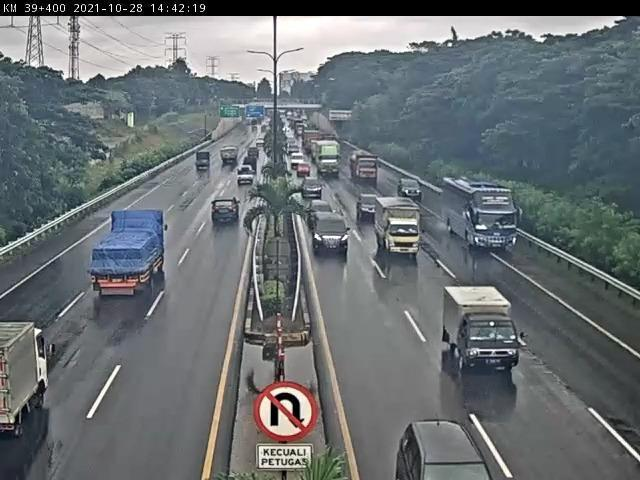bus: (444, 177, 519, 250)
car: (315, 214, 352, 257), (212, 197, 243, 225), (307, 202, 332, 229), (357, 195, 382, 217), (400, 180, 423, 199), (302, 178, 324, 197), (239, 166, 256, 185)
truck: (90, 211, 169, 296), (442, 288, 518, 372), (374, 200, 420, 255)
